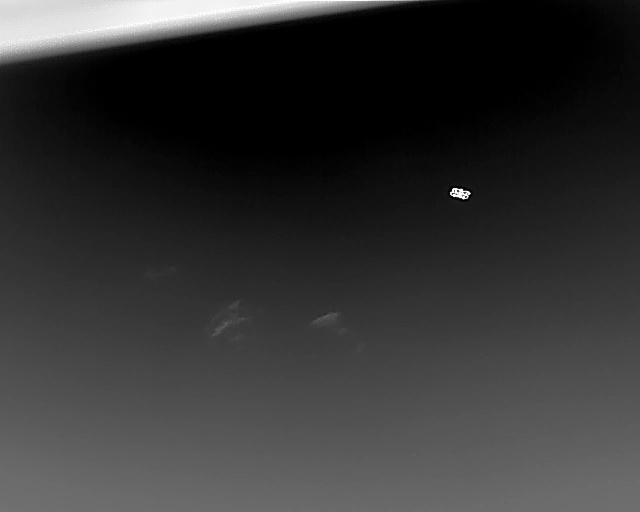fpv-drone: (449, 187, 470, 200)
